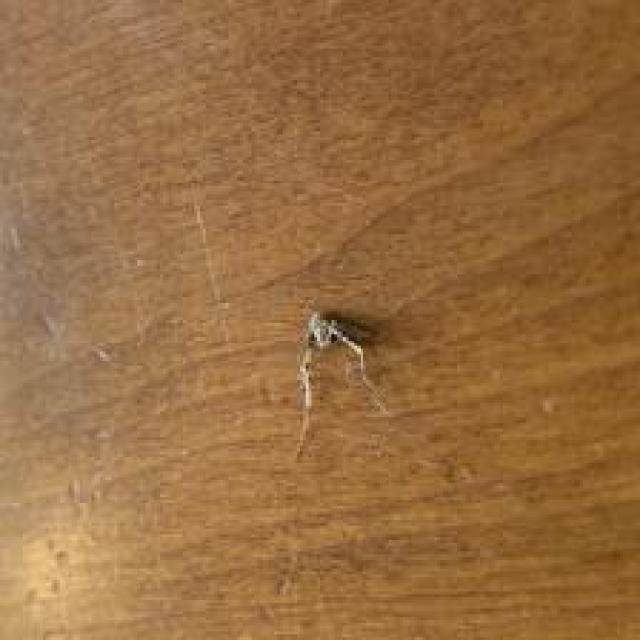Culex: (292, 307, 392, 462)
